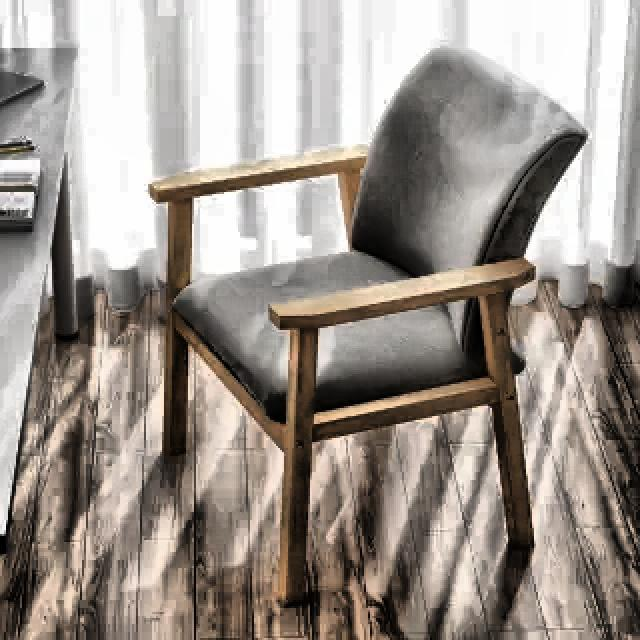cadeira: (145, 41, 590, 603)
